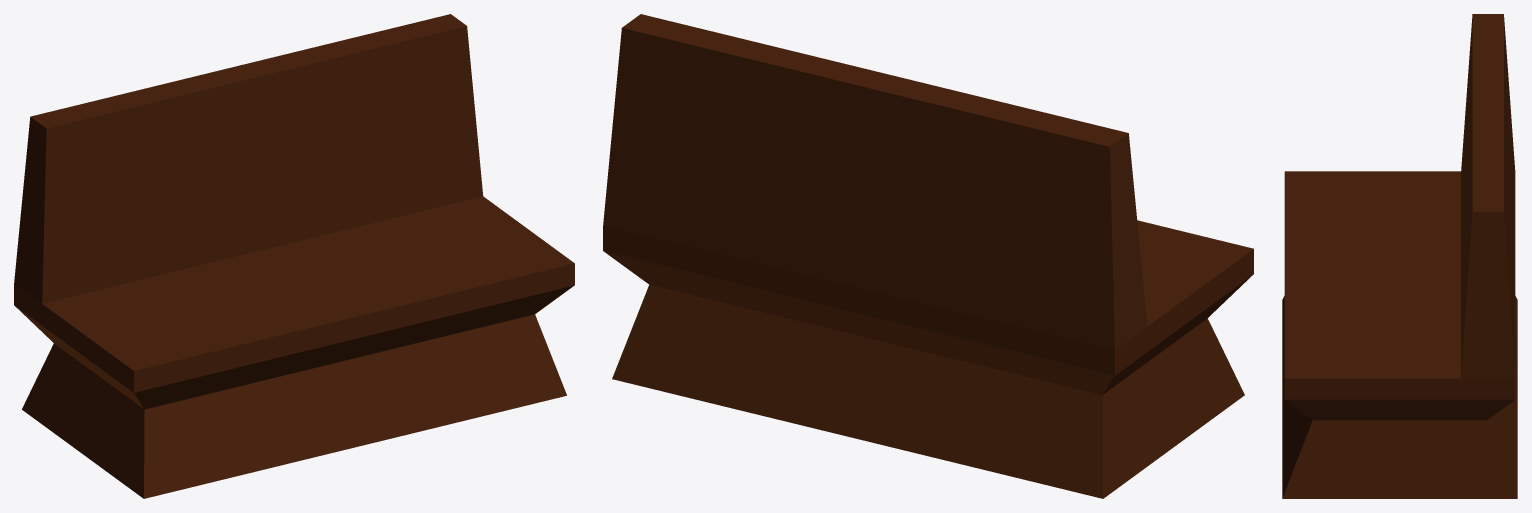
Rendered from banco_sencillo.FBX.
The picture shows the model from 3 angles, left to right: view 1: azimuth 30°, elevation 25°; view 2: azimuth 150°, elevation 25°; view 3: azimuth 270°, elevation 25°; orthographic projection. The views are drawn at different scales.
Parts seen in each view (by area): view 1: Box001; view 2: Box001; view 3: Box001.
Boxes of the visible parts, x1,y1,x2,y2 form: Box001: [14, 14, 574, 498]; Box001: [603, 14, 1253, 498]; Box001: [1282, 14, 1517, 498].
Size of the model in its own units: 62.51 by 40.33 by 30.
